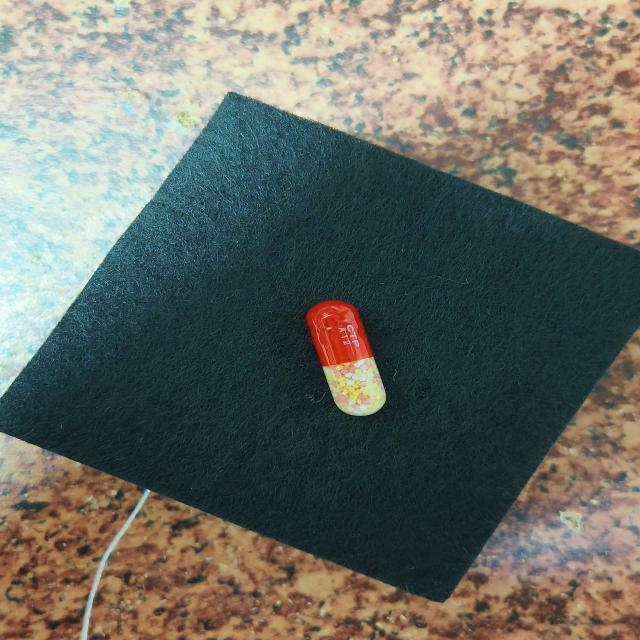Intact Capsule: (306, 300, 386, 416)
